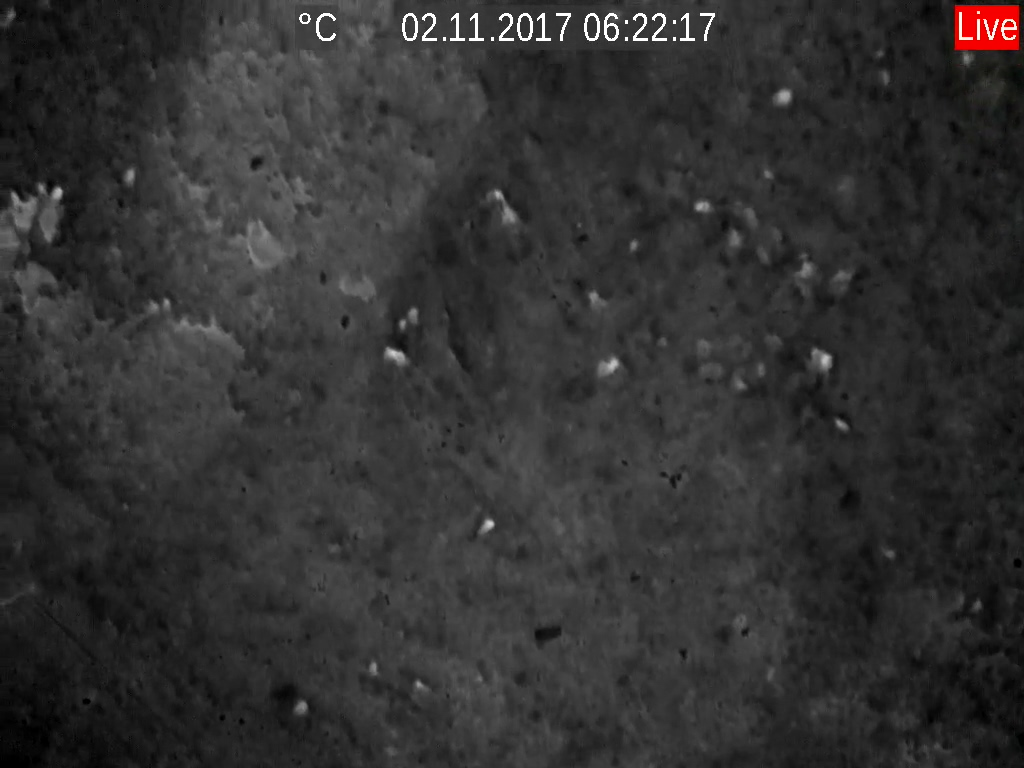warren: (31, 181, 68, 247), (592, 350, 623, 381), (381, 343, 413, 369), (472, 513, 499, 540), (830, 413, 850, 434)
